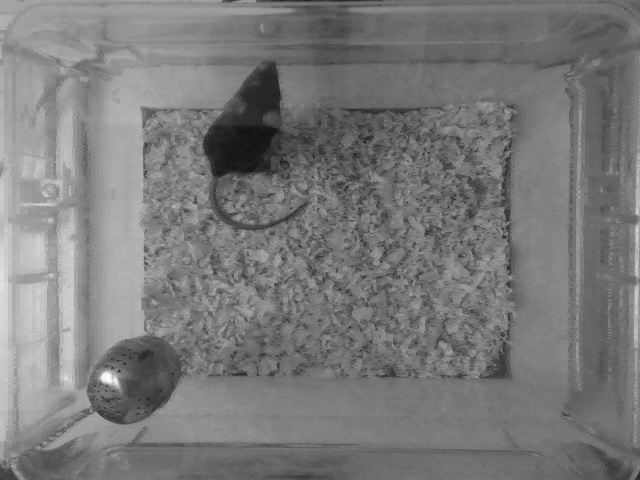mice: (200, 53, 314, 234)
